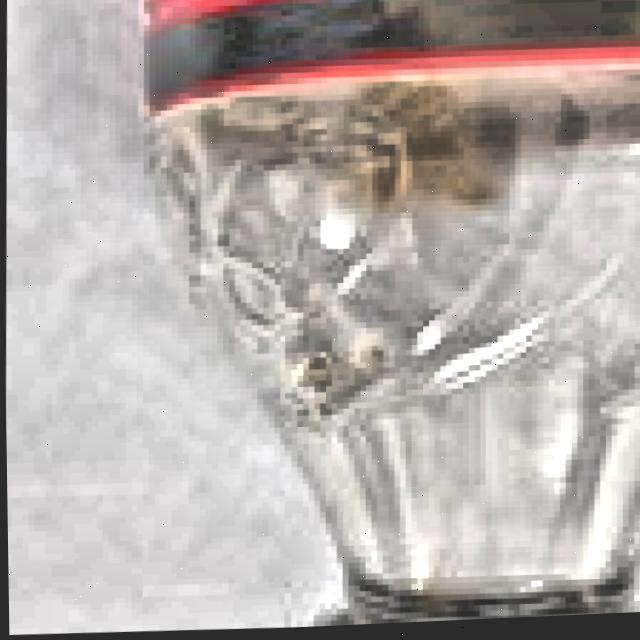plastic: (97, 0, 640, 637)
